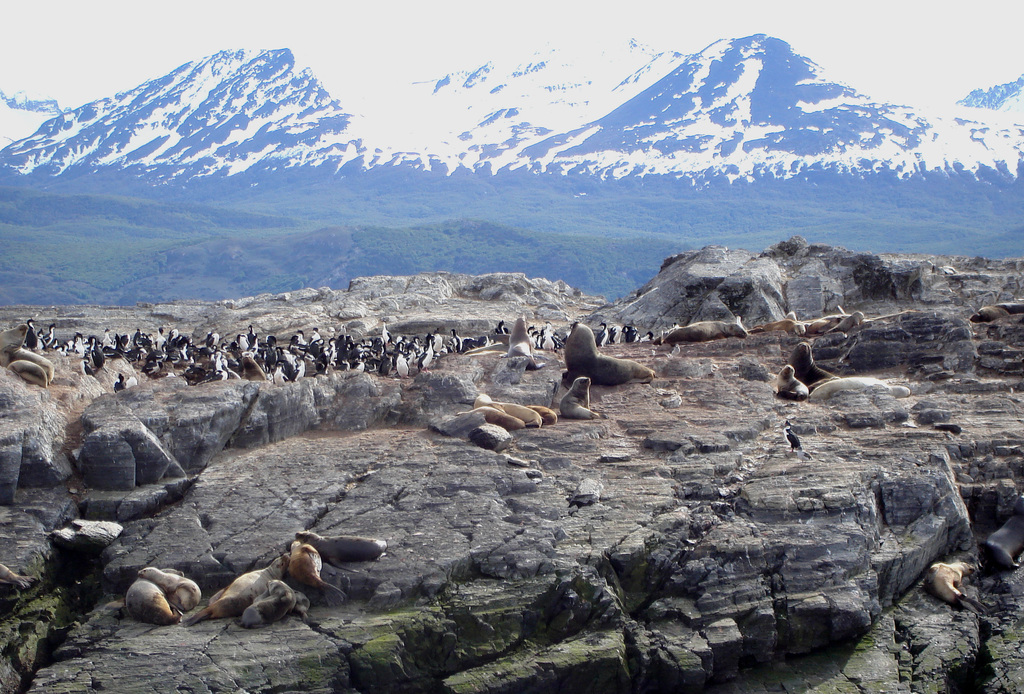Animal: (0, 311, 884, 430), (0, 524, 388, 633), (923, 556, 987, 614), (981, 492, 1022, 570), (974, 298, 1010, 319), (780, 418, 800, 453), (794, 446, 817, 468)
